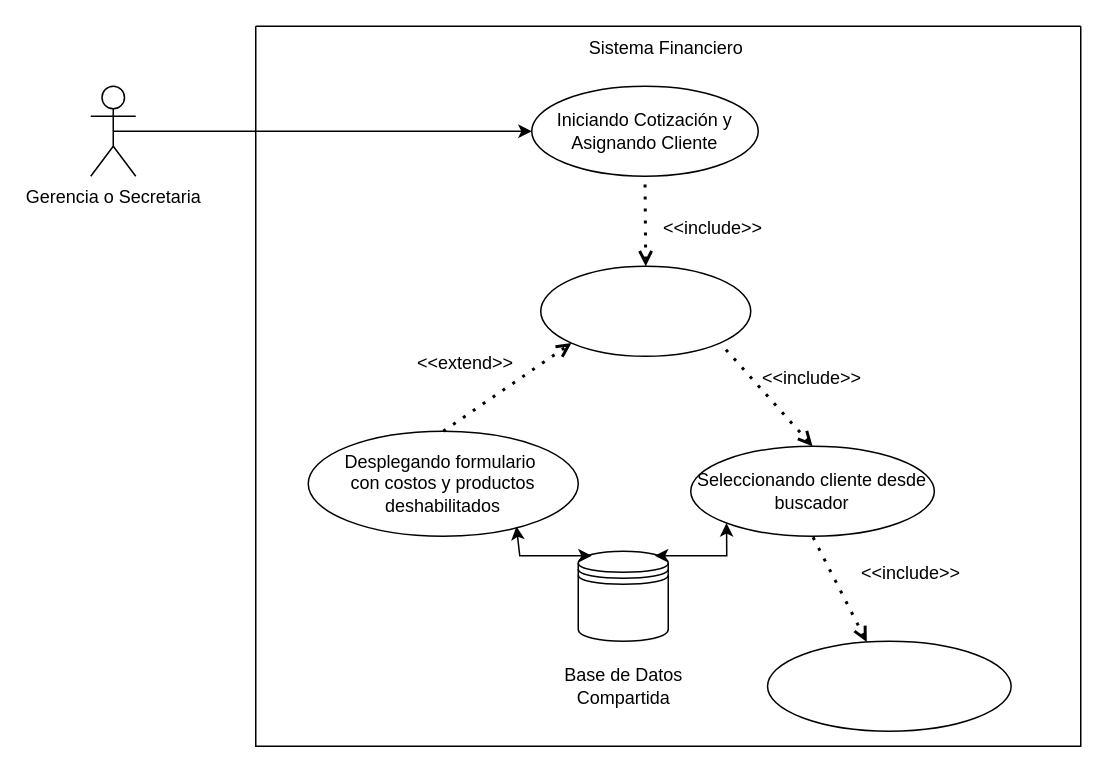
Image size: 1107x773. Some labels were removed from this diagram. The centre of each missing label's shape, as x and y in pixels:
Asociando cliente a documento: point (888, 685)
Seleccionando "Crear Nueva Cotización": point (645, 310)
